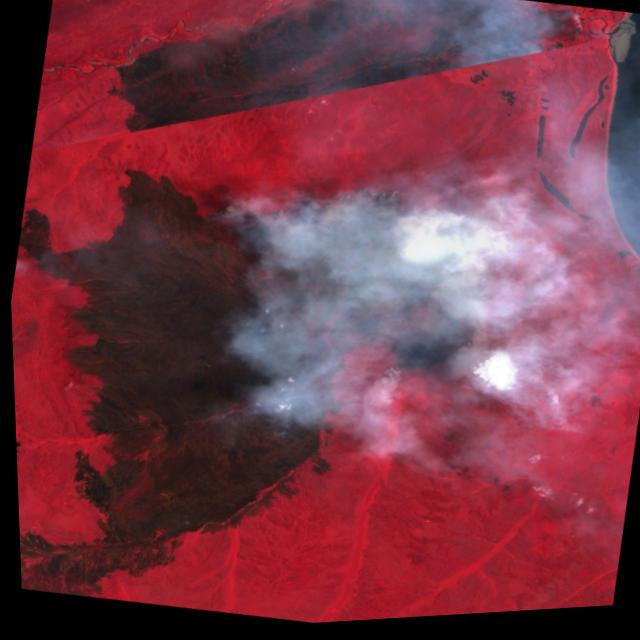fire: (173, 159, 504, 403)
